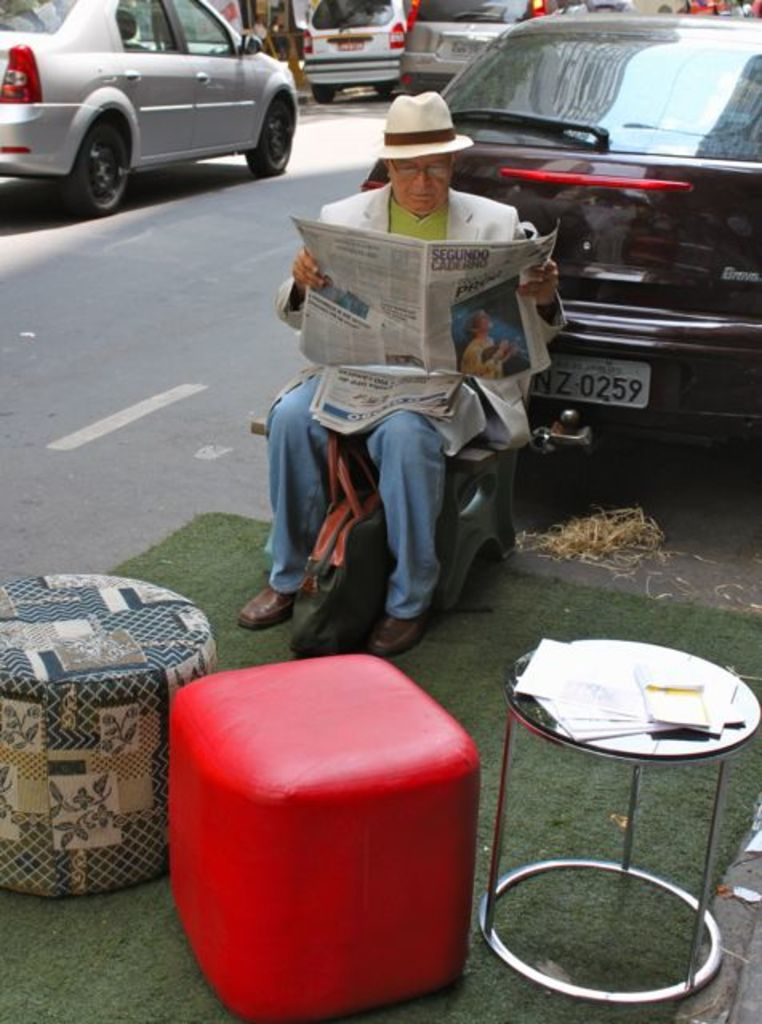Car: (355, 16, 760, 457), (0, 4, 315, 203), (398, 0, 587, 92), (302, 0, 413, 102), (589, 0, 629, 9)
